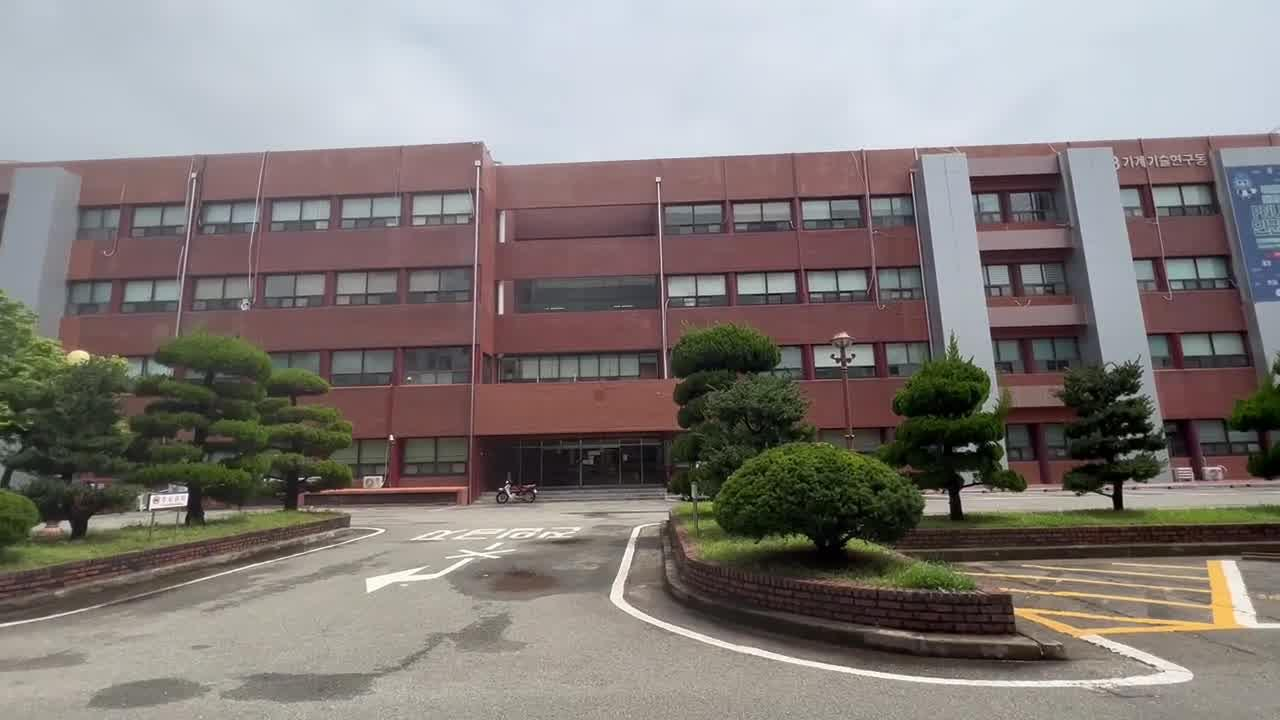building: (36, 148, 1226, 342)
